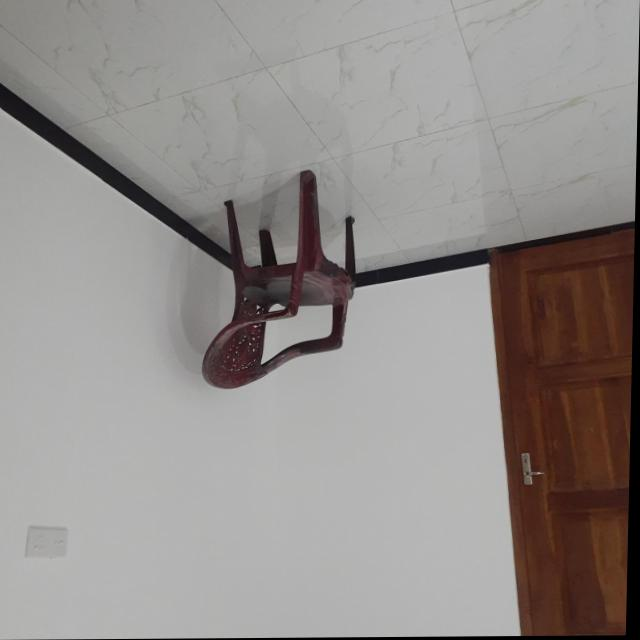Chair: (203, 168, 360, 391)
